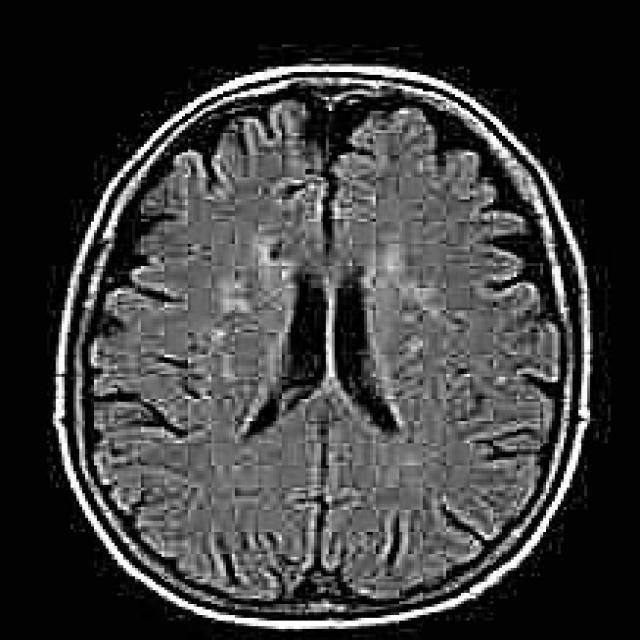notumor: (56, 66, 593, 629)
